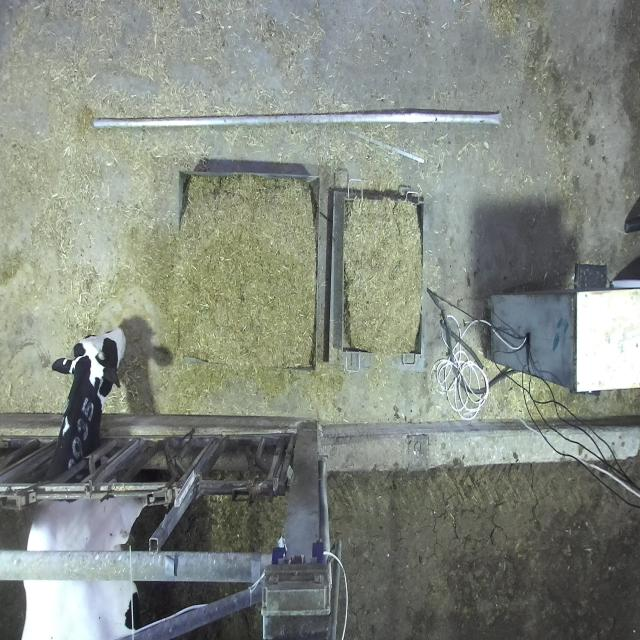cow: (50, 321, 127, 398)
